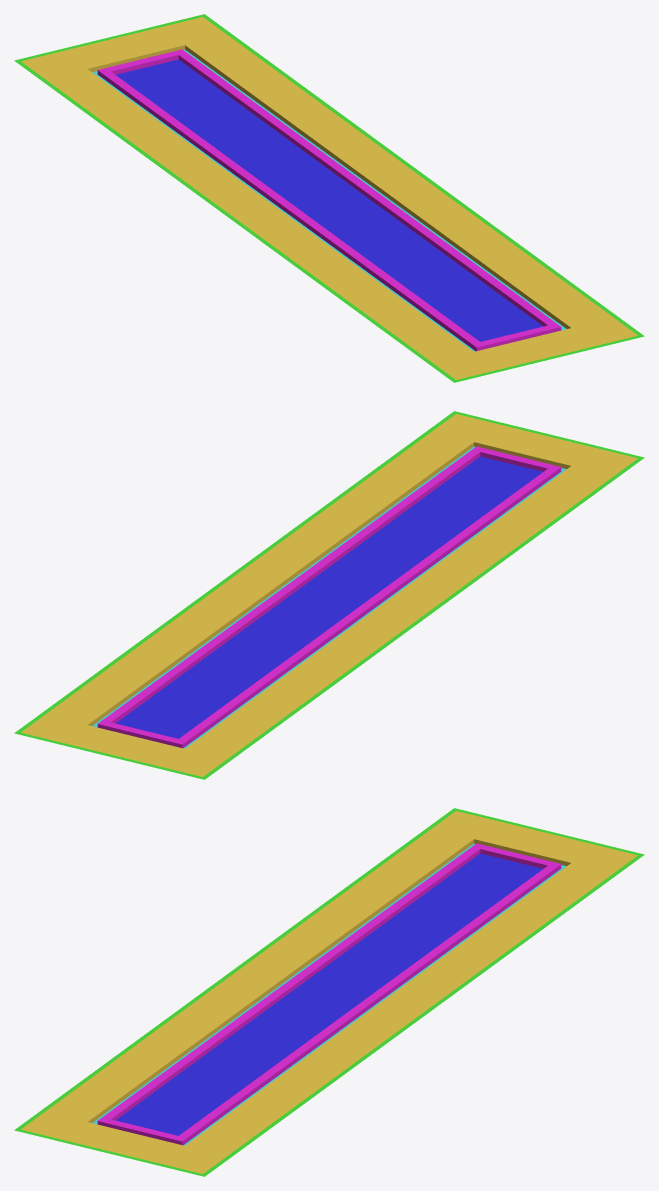
File: Floor_013_C_03.fbx
3 renders of one model, top to bottom at view 1: azimuth 30°, elevation 25°; view 2: azimuth 150°, elevation 25°; view 3: azimuth 330°, elevation 25°, orthographic.
Visible parts, largest first — view 1: Floor_013_C_03; view 2: Floor_013_C_03; view 3: Floor_013_C_03.
Boxes of the visible parts, bbox=[...] form: Floor_013_C_03: bbox=[14, 14, 644, 382]; Floor_013_C_03: bbox=[14, 411, 644, 779]; Floor_013_C_03: bbox=[14, 808, 644, 1176].
Bounding box in the file's own units: 114 × 12.7 × 457.
